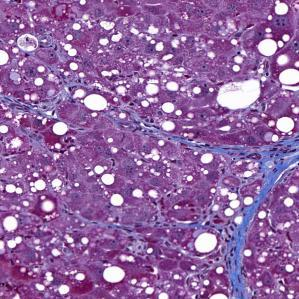fibrosis: (219, 140, 295, 199), (210, 236, 266, 297)
